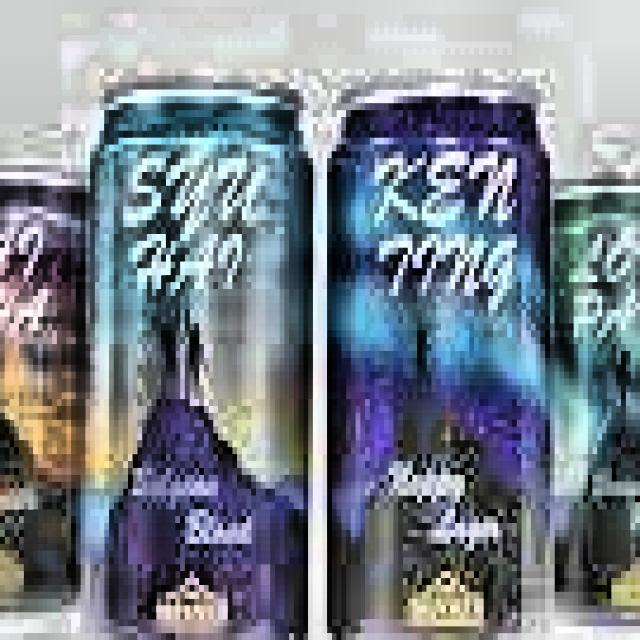metal: (71, 62, 322, 640), (322, 55, 564, 640), (0, 144, 109, 640), (545, 152, 640, 633)
